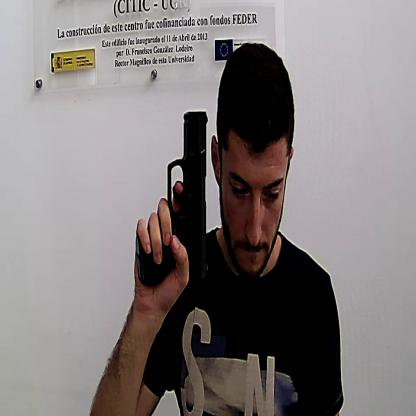gun: (134, 108, 208, 290)
